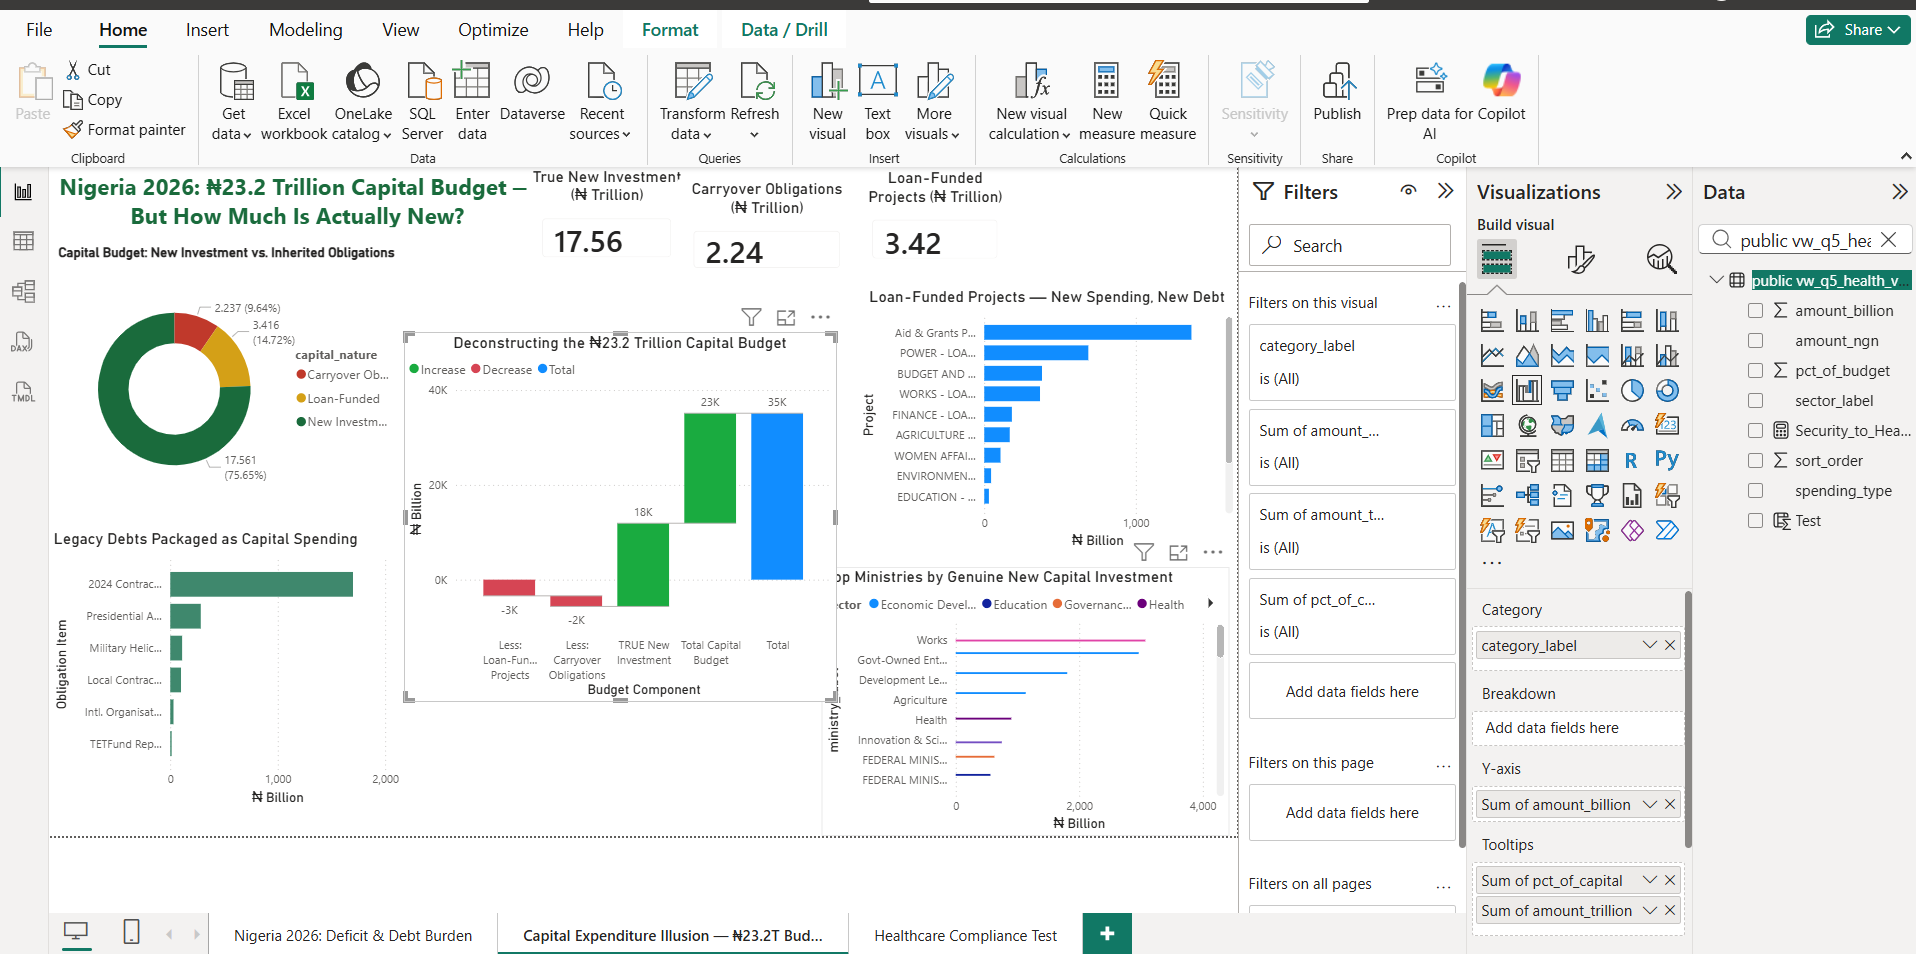

Layout of this report page (visuals, bound fields, positions):
{"tool":"powerbi","page":{"name":"Capital Expenditure Illusion — ₦23.2T Budget","canvas":[1280,720],"ordinal":1},"visuals":[{"type":"textbox","box":[0,0,543.9,70],"z":4},{"type":"donutChart","title":"Capital Budget: New Investment vs. Inherited Obligations","fields":{"Category":["public vw_q4_capital_nature_summary.capital_nature"],"Y":["Sum(public vw_q4_capital_nature_summary.amount_trillion)"]},"box":[0,83.5,382.3,294.8],"z":5},{"type":"cardVisual","title":"True New Investment (₦ Trillion)","fields":{"Data":["Sum(public vw_q4_capital_nature_summary.amount_trillion)"]},"box":[514.3,0,173.7,114.4],"z":7},{"type":"cardVisual","title":"Loan-Funded Projects (₦ Trillion)","fields":{"Data":["Sum(public vw_q4_capital_nature_summary.amount_trillion)"]},"box":[869.7,1.3,169.6,114.4],"z":8},{"type":"cardVisual","title":"Carryover Obligations (₦ Trillion)","fields":{"Data":["Sum(public vw_q4_capital_nature_summary.amount_trillion)"]},"box":[677.2,13.5,192.5,113.1],"z":9},{"type":"waterfallChart","title":"Deconstructing the ₦23.2 Trillion Capital Budget","fields":{"Category":["public vw_q4_true_capital_summary.category_label"],"Y":["Sum(public vw_q4_true_capital_summary.amount_billion)"]},"box":[382.3,177.7,465.8,398.5],"z":10},{"type":"clusteredBarChart","title":"Legacy Debts Packaged as Capital Spending","fields":{"Y":["Sum(public vw_q4_carryover_items.amount_billion)"],"Category":["public vw_q4_carryover_items.carryover_label"]},"box":[0,390.4,382.3,301.6],"z":11},{"type":"clusteredBarChart","title":"Loan-Funded Projects — New Spending, New Debt","fields":{"Y":["Sum(public vw_q4_loan_funded_items.amount_billion)"],"Category":["public vw_q4_loan_funded_items.loan_label"]},"box":[869.7,129.2,410.6,286.7],"z":12},{"type":"clusteredBarChart","title":"Top Ministries by Genuine New Capital Investment","fields":{"Y":["Sum(public vw_q4_top_mda_new_investment.amount_billion)"],"Series":["public vw_q4_top_mda_new_investment.sector"],"Category":["public vw_q4_top_mda_new_investment.ministry_label"]},"box":[832,430.8,438.9,289.4],"z":13}]}

Visuals, with their boxes on the page's 1280x720 design canvas (x1, y1, x2, y2). These are canvas units, not pixel positions in the 1916x954 screenshot, which may show the page scaled, cropped or inside an application window:
textbox: box(0, 0, 544, 70)
"Capital Budget: New Investment vs. Inherited Obligations" donutChart: box(0, 84, 382, 378)
"True New Investment (₦ Trillion)" cardVisual: box(514, 0, 688, 114)
"Loan-Funded Projects (₦ Trillion)" cardVisual: box(870, 1, 1039, 116)
"Carryover Obligations (₦ Trillion)" cardVisual: box(677, 14, 870, 127)
"Deconstructing the ₦23.2 Trillion Capital Budget" waterfallChart: box(382, 178, 848, 576)
"Legacy Debts Packaged as Capital Spending" clusteredBarChart: box(0, 390, 382, 692)
"Loan-Funded Projects — New Spending, New Debt" clusteredBarChart: box(870, 129, 1280, 416)
"Top Ministries by Genuine New Capital Investment" clusteredBarChart: box(832, 431, 1271, 720)
